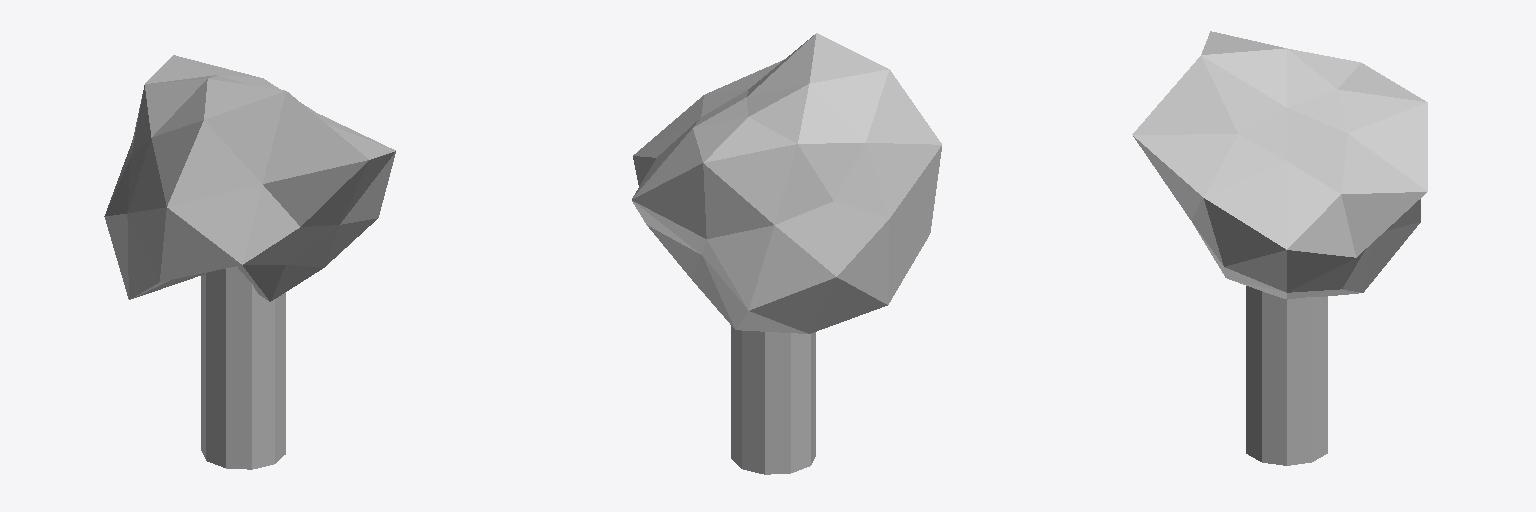
File: tree.obj
3 renders of one model, left to right at view 1: azimuth 30°, elevation 25°; view 2: azimuth 150°, elevation 25°; view 3: azimuth 270°, elevation 25°, orthographic.
Parts seen in each view (by area): view 1: tree:Mesh; view 2: tree:Mesh; view 3: tree:Mesh.
Boxes of the visible parts, <box> form: tree:Mesh: <box>104,55,395,469</box>; tree:Mesh: <box>632,33,941,474</box>; tree:Mesh: <box>1132,31,1427,465</box>.
Size of the model in its own units: 2.13 by 3.03 by 2.07.